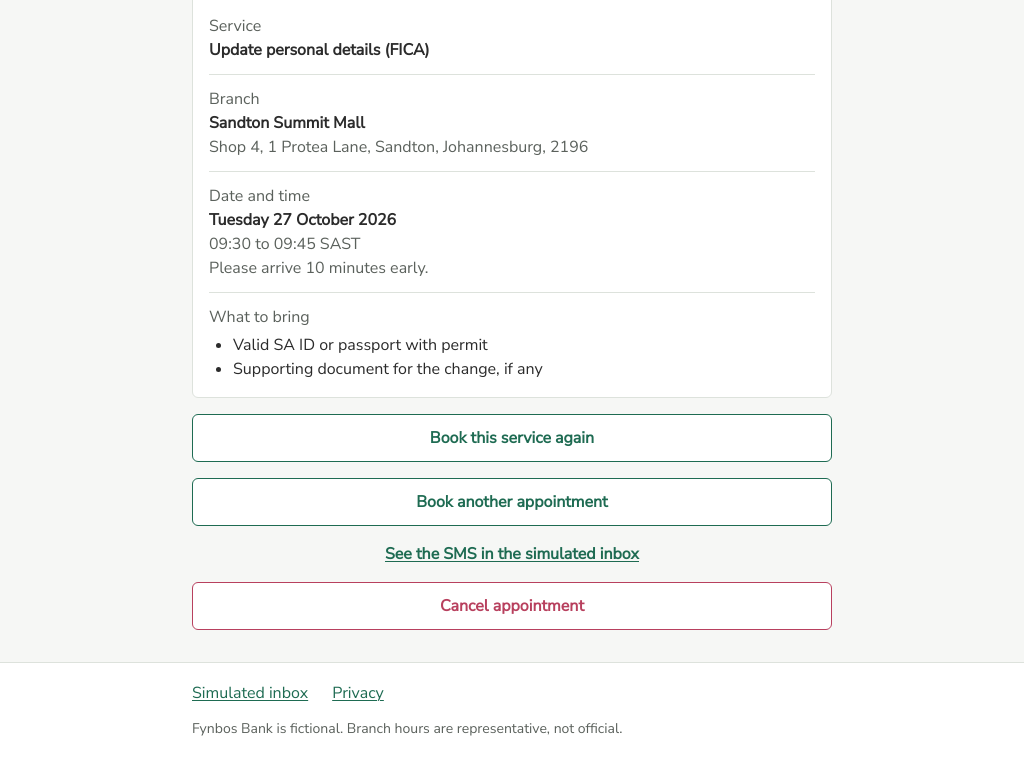
Scenario: ConfirmationPage › books the same service at the same branch again, from the date and time step
This screenshot has width=1024, height=763.
(page scrolled)
Step 1. Click the link named "Book this service again: Update personal details (FICA) at Sandton Summit Mall" → (512, 438), box [192,414,832,462]
(page scrolled)
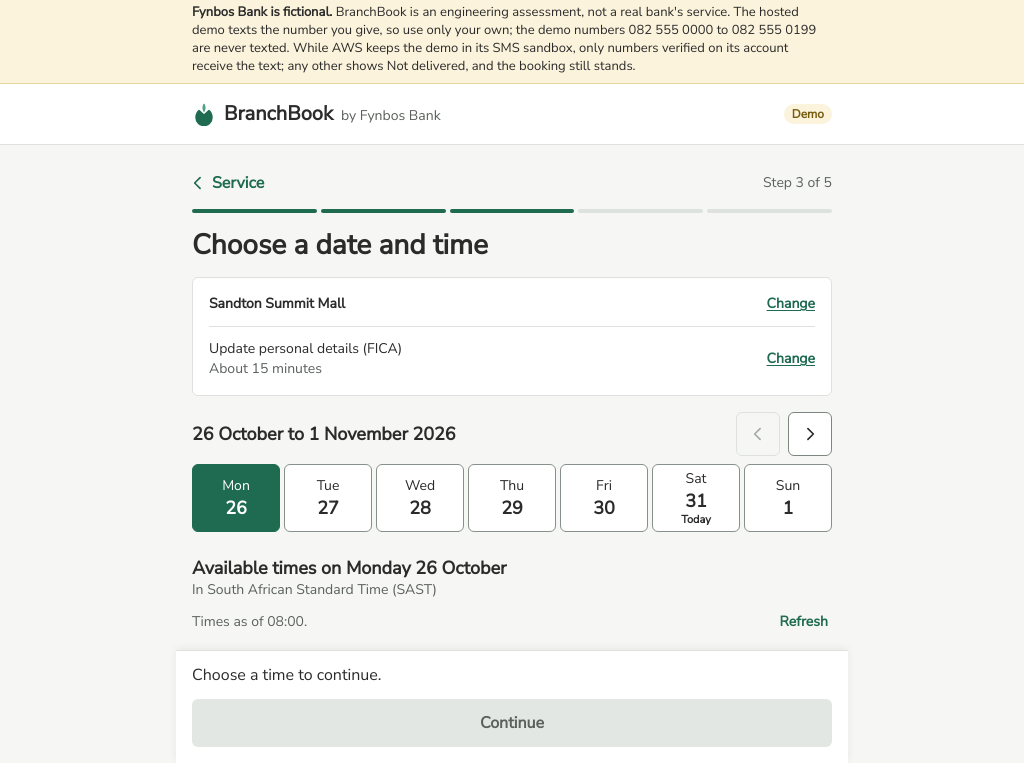
Expected: the heading "Choose a date and time" is shown, [192,226,488,264]
